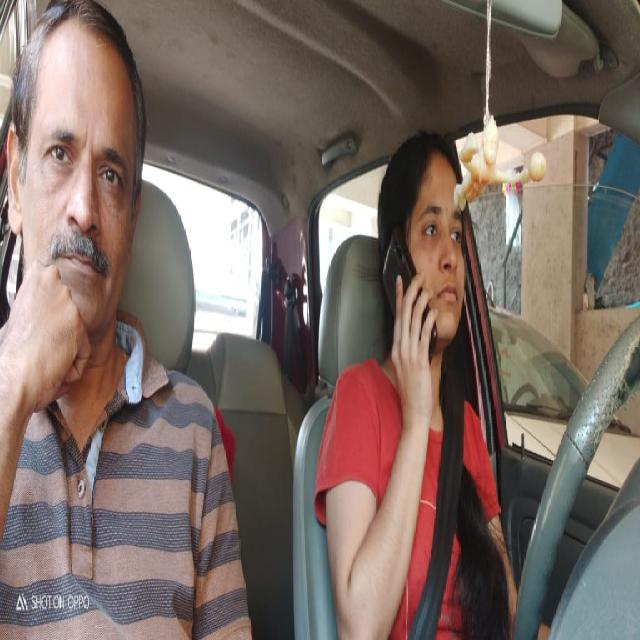mobile: (377, 222, 442, 371)
person: (5, 2, 147, 341), (376, 130, 471, 350)
